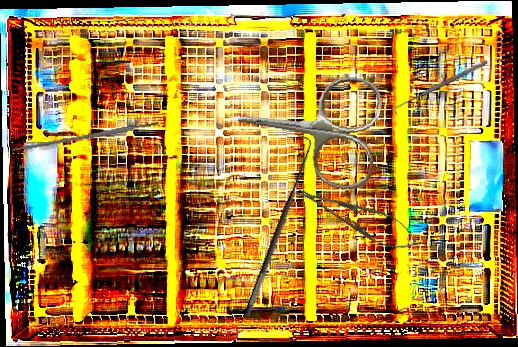Hook Surgical: (230, 132, 320, 318), (390, 58, 492, 116)
Iris Scissors: (222, 60, 385, 194)
Needle Holder: (289, 175, 427, 260)
Scalpel Handle: (11, 121, 160, 153)
